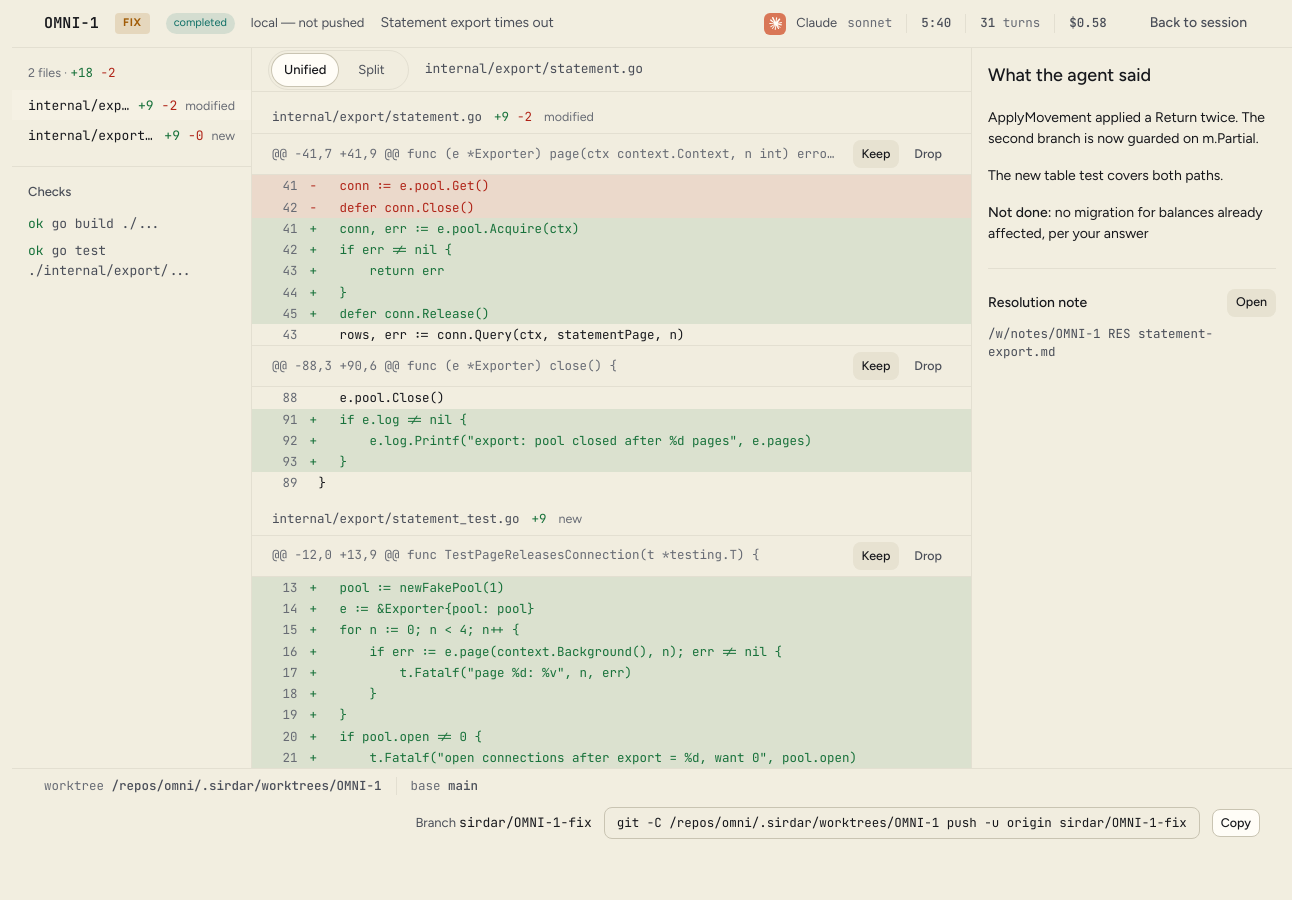
Test: the Change review screen › copies the push line
Click the button "Copy".
click(1236, 823)  # box [1212,809,1260,837]
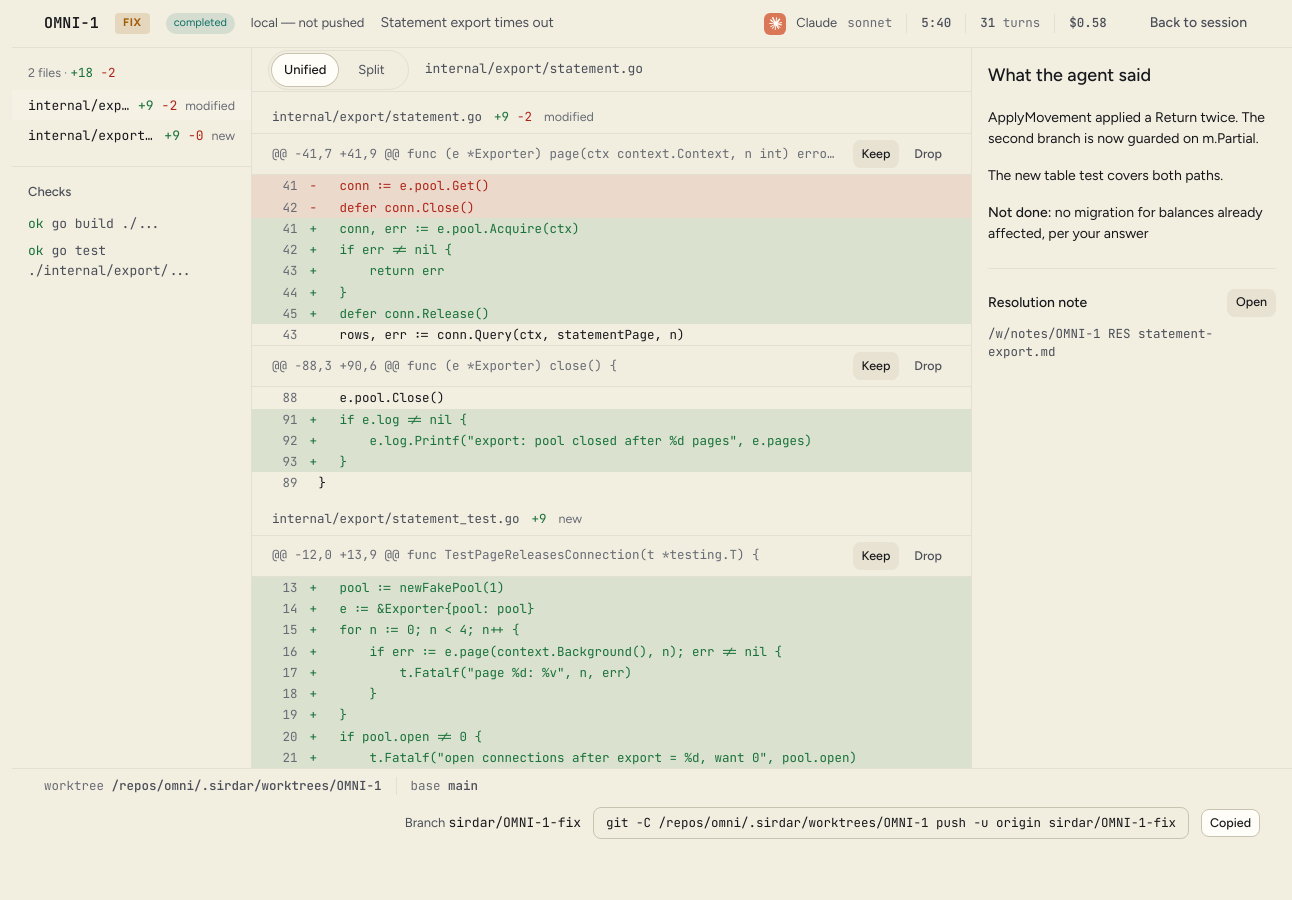
expect the button "Copied" is shown: met, box [1201,809,1260,837]
